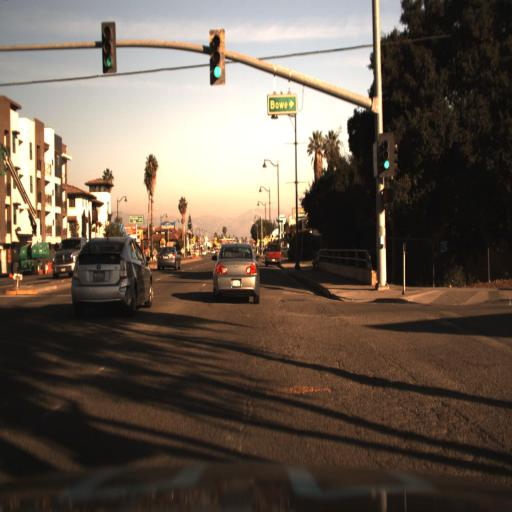car: (70, 225, 153, 324), (215, 231, 269, 315), (51, 237, 95, 280), (50, 235, 77, 282), (151, 240, 186, 276), (154, 242, 182, 281), (262, 241, 284, 276)
trafficLight: (100, 18, 118, 90), (206, 27, 224, 90)
trafficLight-Green: (373, 139, 396, 189), (374, 132, 395, 175), (101, 19, 116, 76)
truck: (13, 241, 49, 278)
